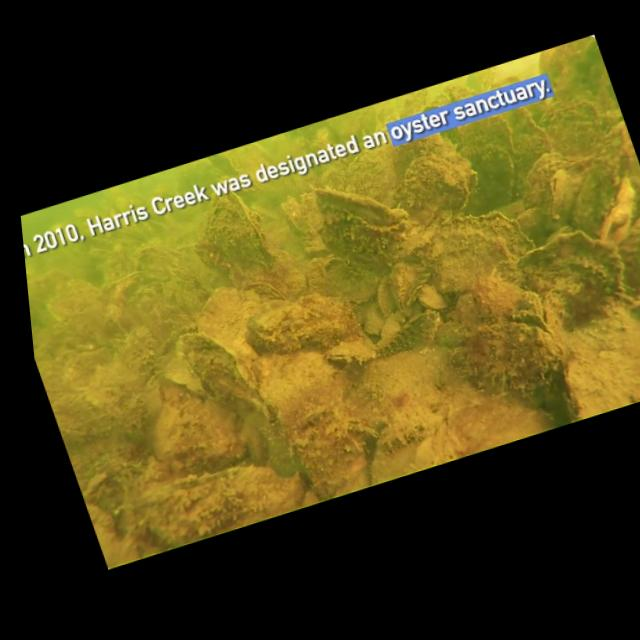Oyster-Closed: (182, 182, 279, 285), (529, 163, 587, 226)
Oyster-Indeterminate: (397, 180, 566, 333), (119, 442, 314, 558), (435, 299, 588, 446), (506, 215, 636, 321), (169, 318, 270, 431), (255, 341, 356, 434), (378, 145, 480, 230), (529, 32, 617, 116), (181, 275, 269, 347), (237, 291, 323, 362), (366, 119, 458, 179), (134, 398, 204, 468), (39, 274, 115, 337), (120, 275, 190, 342), (578, 175, 640, 249), (580, 112, 640, 184), (504, 144, 577, 203), (375, 250, 434, 322), (466, 139, 522, 206), (463, 108, 522, 169), (131, 236, 188, 288), (503, 194, 560, 244), (93, 264, 153, 306), (161, 257, 211, 305), (133, 376, 174, 421), (370, 271, 405, 317), (354, 299, 392, 339), (411, 280, 451, 318), (117, 397, 149, 438), (623, 283, 640, 353)
Oyster-Open: (301, 163, 432, 282), (323, 328, 381, 374), (331, 412, 387, 456), (240, 269, 293, 312), (77, 465, 120, 503)
